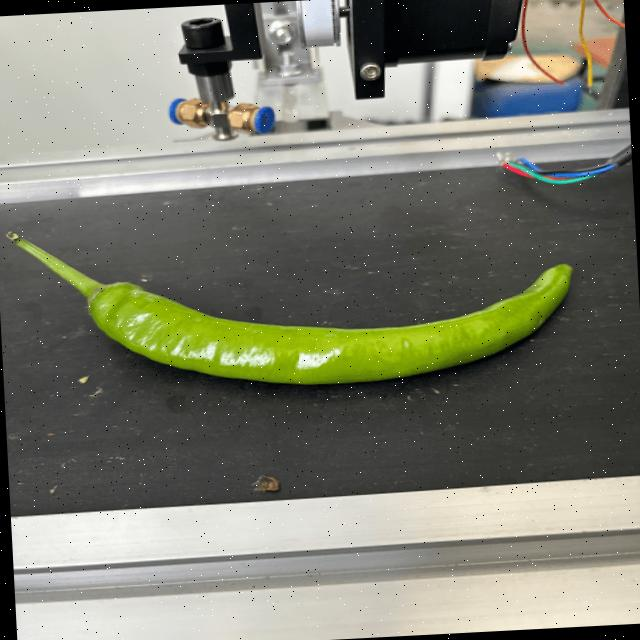chili: (83, 261, 572, 385)
